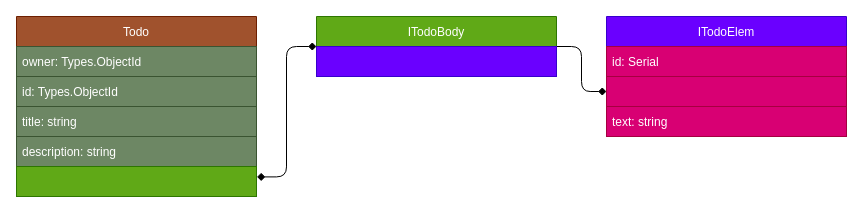
The diagram is 863 pixels wide and 213 high, and some of its shapes have lost their labels. The shapes that lost their labels are listed below. From the top down, each one's centre as x and y in pixels, then its label:
the point at 436,61: ITodoElem[]
the point at 726,91: isDone: boolean
the point at 136,181: body: ITodoBody
